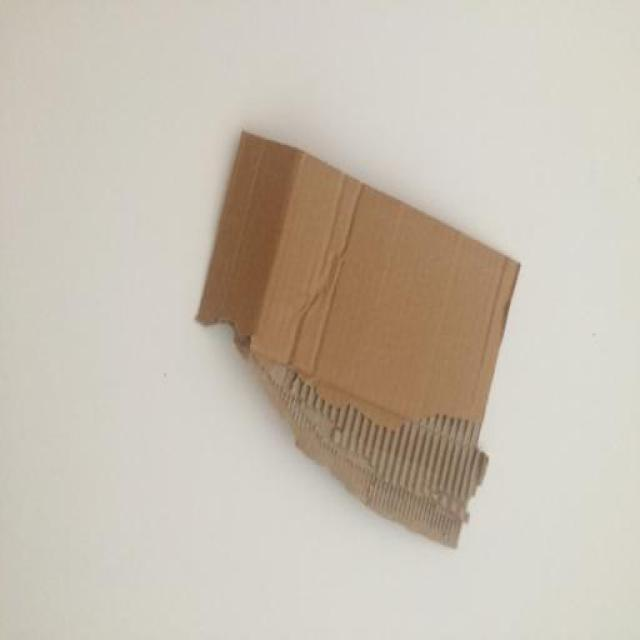cardboard: (195, 133, 521, 548)
